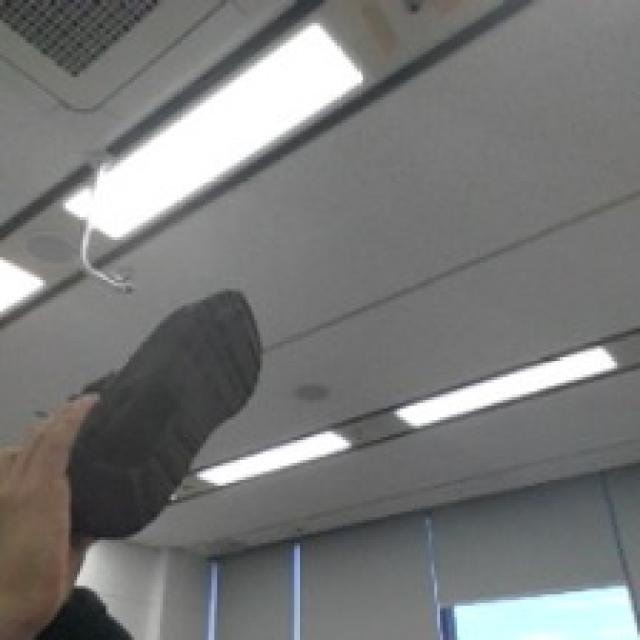shoe: (35, 268, 295, 542)
